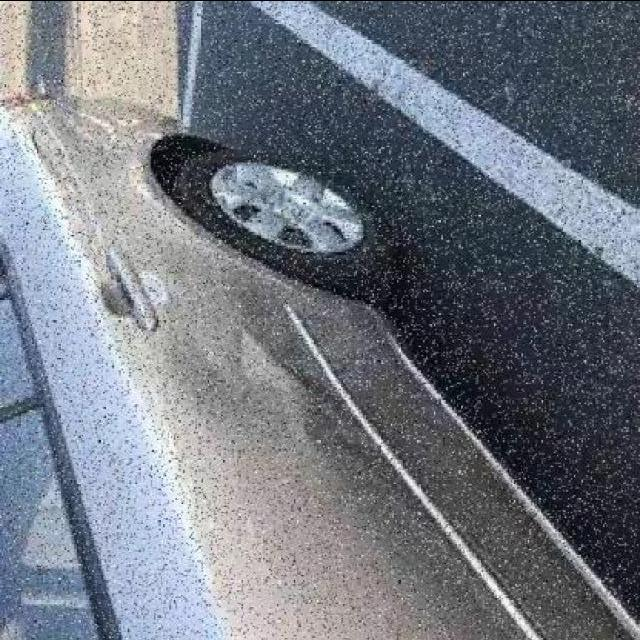doorouter-dent: (59, 264, 492, 637)
